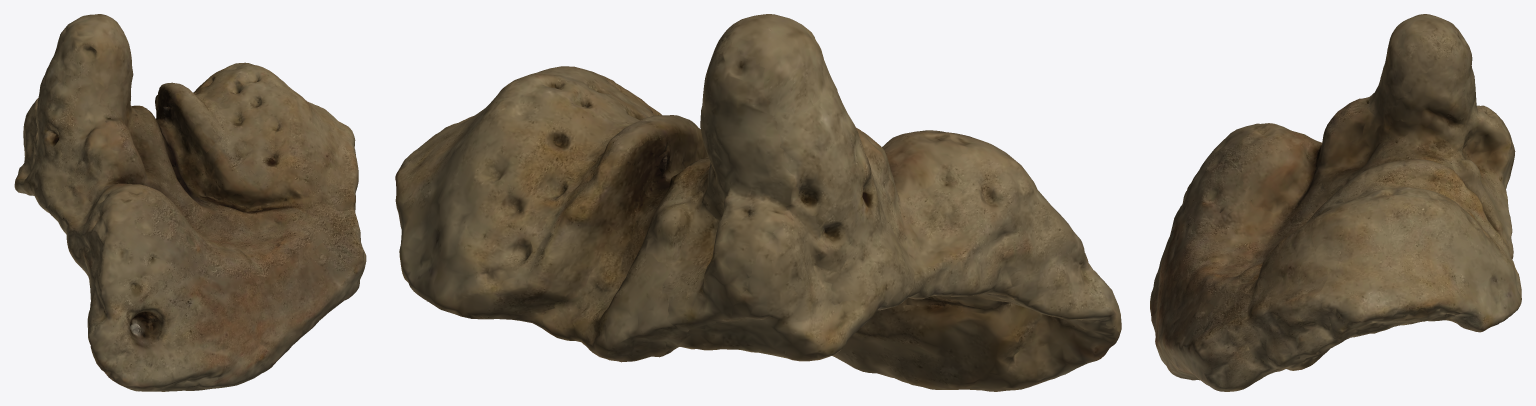
The picture shows the model from 3 angles, left to right: view 1: azimuth 30°, elevation 25°; view 2: azimuth 150°, elevation 25°; view 3: azimuth 270°, elevation 25°; orthographic projection. The views are drawn at different scales.
Visible parts, largest first — view 1: Mesh_0.009; view 2: Mesh_0.009; view 3: Mesh_0.009.
Boxes of the visible parts, box(x1,y1,x2,y2) form: Mesh_0.009: box(14, 14, 366, 391); Mesh_0.009: box(395, 14, 1121, 391); Mesh_0.009: box(1150, 14, 1521, 391).
Bounding box in the file's own units: 0.159 × 0.133 × 0.1347.
Materials: 1 (1 with a texture image).
